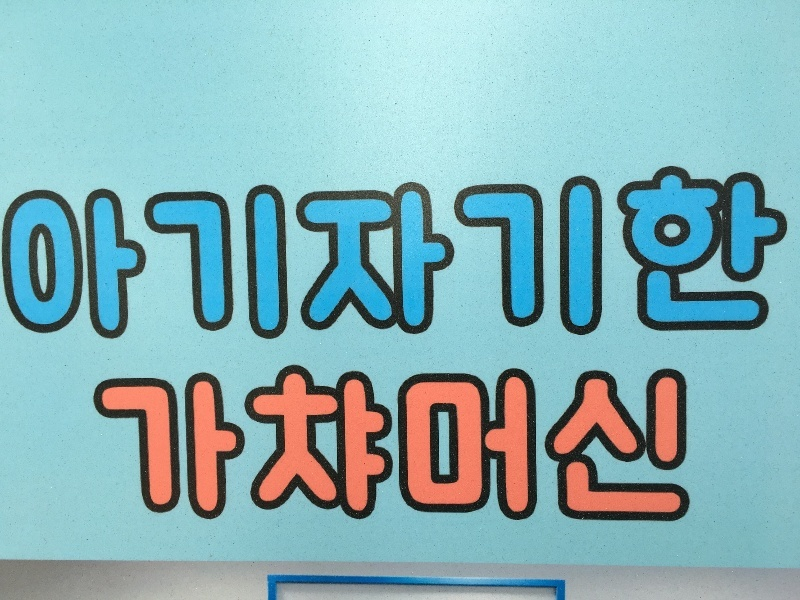text: (1, 152, 16, 363), (17, 152, 32, 363), (33, 152, 48, 363), (49, 152, 64, 363), (65, 152, 80, 363), (81, 152, 96, 363), (97, 152, 112, 363), (113, 152, 128, 363), (129, 152, 144, 363), (145, 152, 160, 363), (161, 152, 176, 363), (177, 152, 192, 363), (193, 152, 208, 363), (209, 152, 224, 363), (225, 152, 240, 363), (241, 152, 256, 363), (257, 152, 272, 363), (273, 152, 288, 363), (289, 152, 304, 363), (305, 152, 320, 363), (321, 152, 336, 363), (337, 152, 352, 363), (353, 152, 368, 363), (369, 152, 384, 363), (385, 152, 400, 363), (401, 152, 416, 363), (417, 152, 432, 363), (433, 152, 448, 363), (449, 152, 464, 363), (465, 152, 480, 363), (481, 152, 496, 363), (497, 152, 512, 363), (513, 152, 528, 363), (529, 152, 544, 363), (545, 152, 560, 363), (561, 152, 576, 363), (577, 152, 592, 363), (593, 152, 608, 363), (609, 152, 624, 363), (625, 152, 640, 363), (641, 152, 656, 363), (657, 152, 672, 363), (673, 152, 688, 363), (689, 152, 704, 363), (705, 152, 720, 363), (721, 152, 736, 363), (737, 152, 752, 363), (753, 152, 768, 363), (769, 152, 784, 363), (785, 152, 799, 363), (97, 358, 112, 535), (113, 358, 128, 535), (129, 358, 144, 535), (145, 358, 160, 535), (161, 358, 176, 535), (177, 358, 192, 535), (193, 358, 208, 535), (209, 358, 224, 535), (225, 358, 240, 535), (241, 358, 256, 535), (257, 358, 272, 535), (273, 358, 288, 535), (289, 358, 304, 535), (305, 358, 320, 535), (321, 358, 336, 535), (337, 358, 352, 535), (353, 358, 368, 535), (369, 358, 384, 535), (385, 358, 400, 535), (401, 358, 416, 535), (417, 358, 432, 535), (433, 358, 448, 535), (449, 358, 464, 535), (465, 358, 480, 535), (481, 358, 496, 535), (497, 358, 512, 535), (513, 358, 528, 535), (529, 358, 544, 535), (545, 358, 560, 535), (561, 358, 576, 535), (577, 358, 592, 535), (593, 358, 608, 535), (609, 358, 624, 535), (625, 358, 640, 535), (641, 358, 656, 535), (657, 358, 672, 535), (673, 358, 688, 535), (689, 358, 704, 535), (86, 358, 96, 535), (705, 358, 707, 535)
